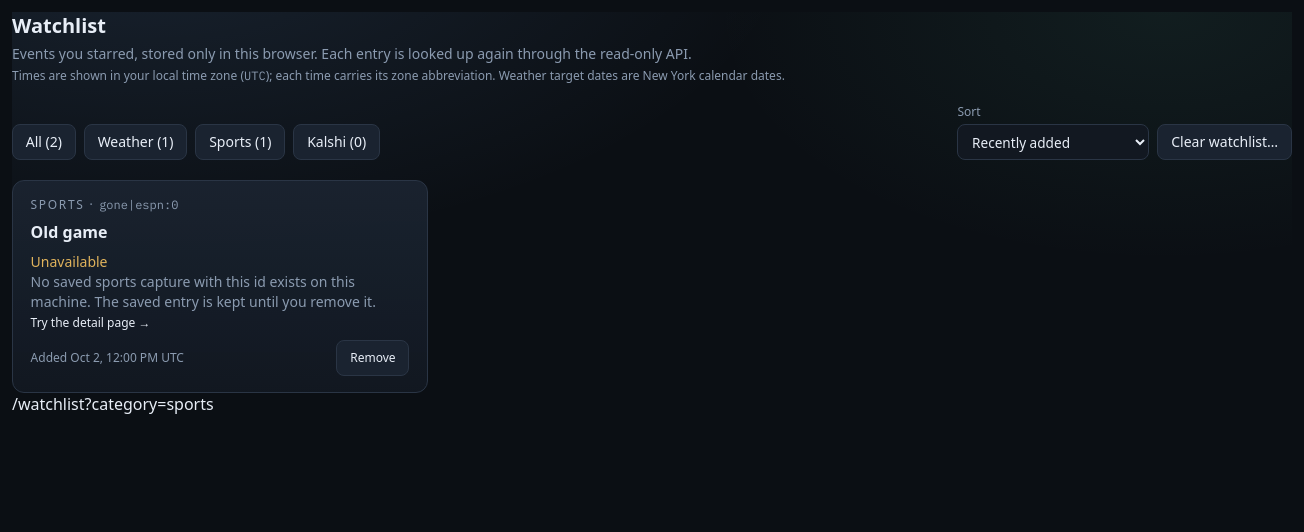
Watchlist page › filters by category through the URL
Check: the element "Old game" is shown, box x1=12 y1=180 x2=428 y2=393
Check: the text "NYC daily high" is not shown
Step 1. Click the button "Weather (1)" → (136, 142), box x1=84 y1=124 x2=187 y2=160
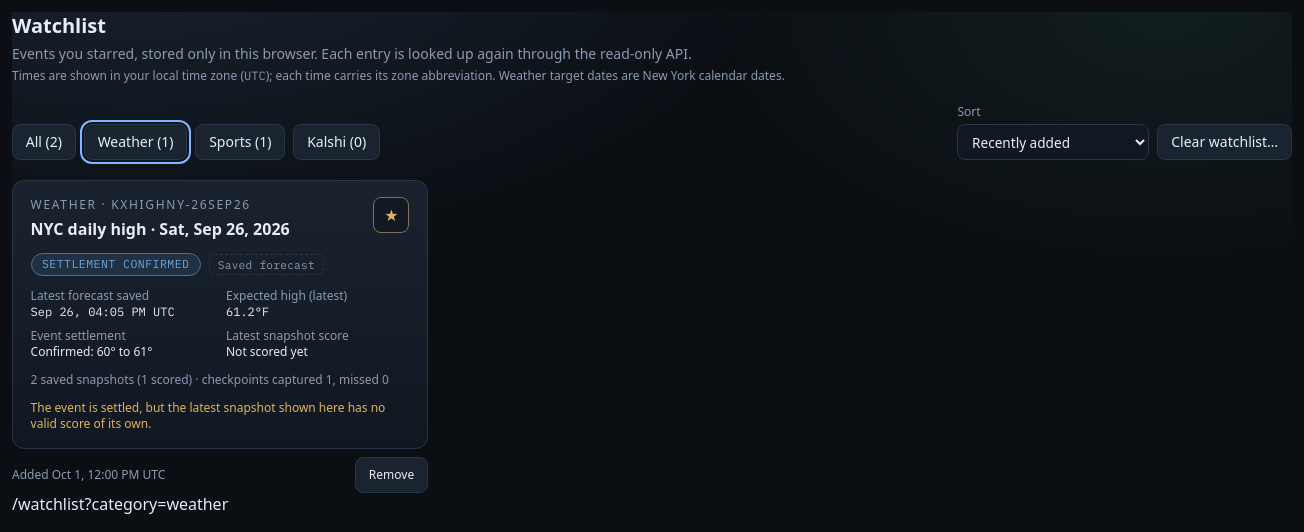
Check: the text with test id "location" reads "/watchlist?category=weather", box x1=12 y1=494 x2=228 y2=516
Check: the link with aria-label "Open NYC daily high" is shown, box x1=31 y1=218 x2=290 y2=240
Check: the heading "Old game" is gone
